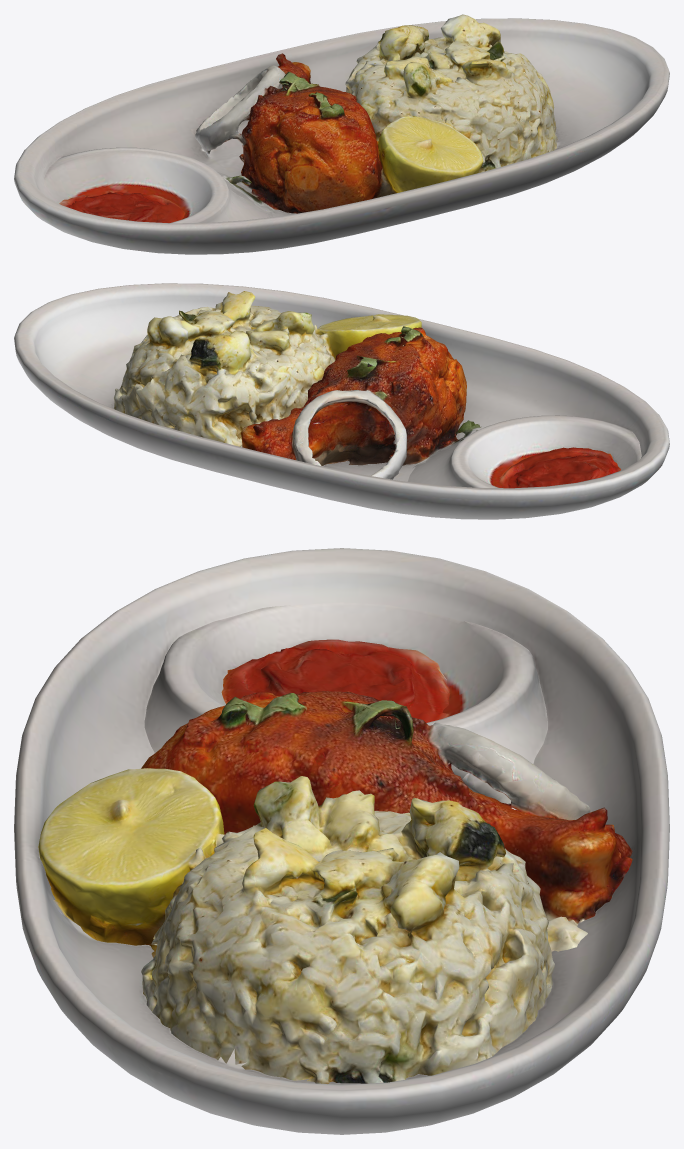
The model's file is chickenmeal.gltf.
3 renders of one model, top to bottom at view 1: azimuth 30°, elevation 25°; view 2: azimuth 150°, elevation 25°; view 3: azimuth 270°, elevation 25°, orthographic. The views are drawn at different scales.
Visible parts, largest first — view 1: Mesh_2, Mesh_1; view 2: Mesh_2, Mesh_1; view 3: Mesh_1, Mesh_2.
Boxes of the visible parts, left/top/right/bottom form: Mesh_2: left=14, top=18, right=669, bottom=254; Mesh_1: left=195, top=14, right=557, bottom=213; Mesh_2: left=14, top=283, right=669, bottom=519; Mesh_1: left=113, top=291, right=483, bottom=479; Mesh_1: left=38, top=691, right=632, bottom=1083; Mesh_2: left=14, top=548, right=669, bottom=1134.
Bounding box in the file's own units: 0.3694 × 0.0594 × 0.1865.
Materials: 1 (1 with a texture image).
